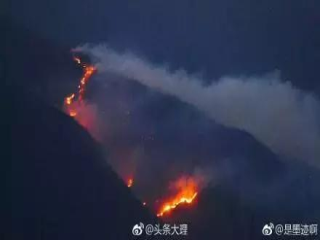fire: (61, 57, 101, 123), (142, 173, 202, 214)
